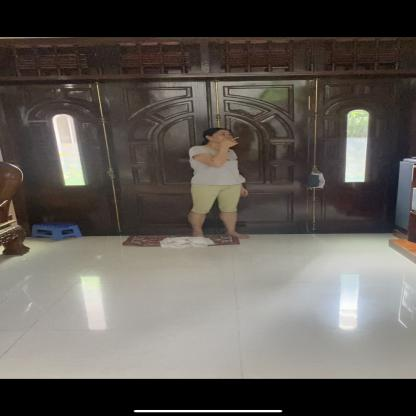cigarette: (233, 136, 240, 140)
person: (186, 126, 250, 242)
